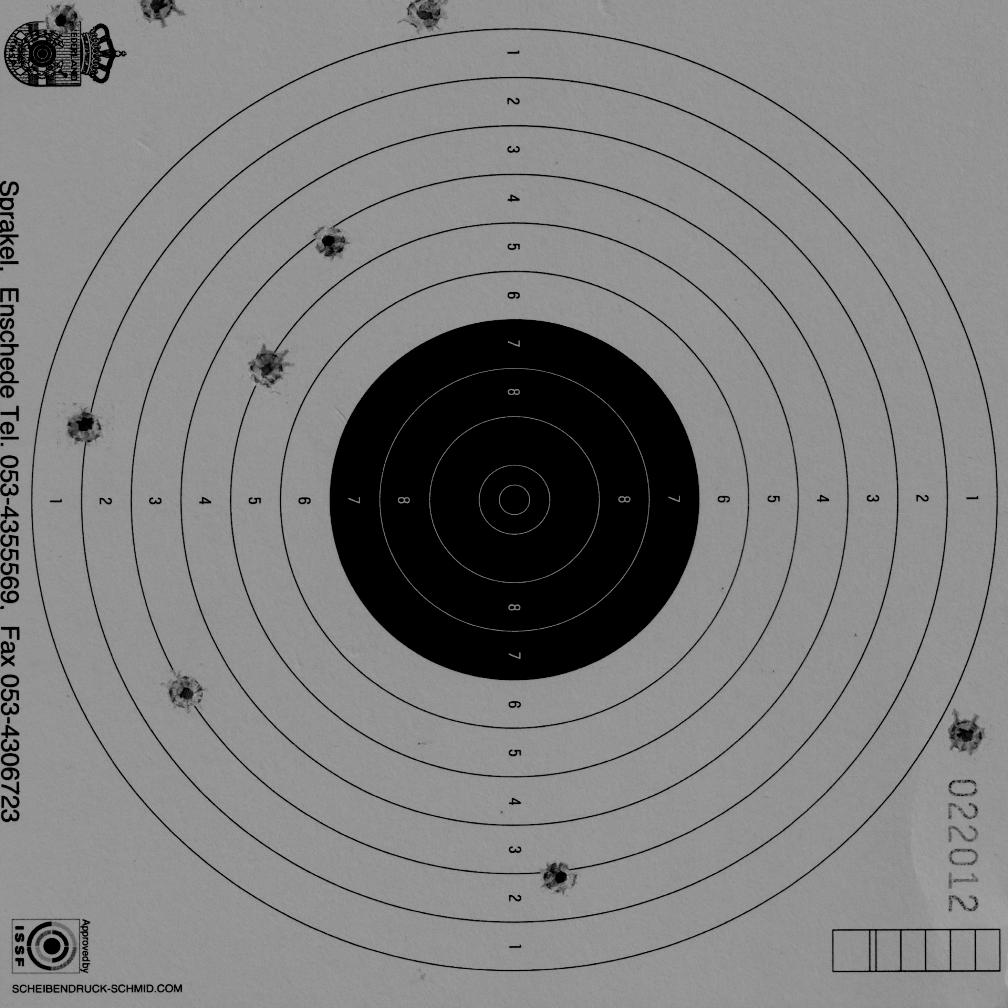0: (940, 708, 990, 760), (398, 0, 451, 39), (42, 0, 88, 42), (135, 0, 189, 32)
2: (63, 407, 105, 447)
3: (159, 668, 210, 716), (537, 858, 579, 898)
4: (311, 222, 352, 262)
5: (246, 343, 294, 397)
Target: (27, 25, 1000, 978)
black_contour: (329, 319, 697, 681)
